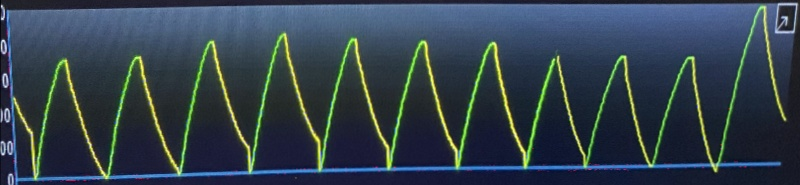leakage: (185, 24, 536, 178)
normal_volume: (539, 33, 724, 172), (32, 37, 177, 181)
